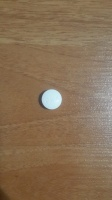Parol: (39, 88, 63, 111)
